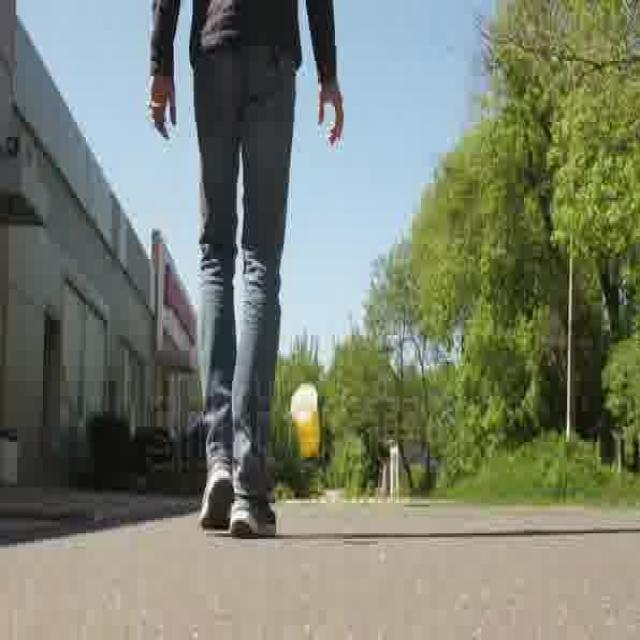human: (149, 0, 348, 539)
trash: (288, 383, 326, 461)
